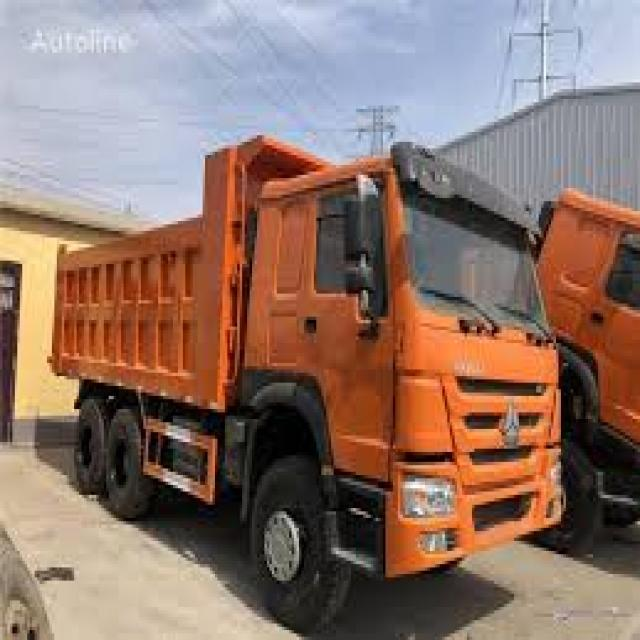dump_truck: (48, 138, 572, 627), (501, 174, 640, 574)
